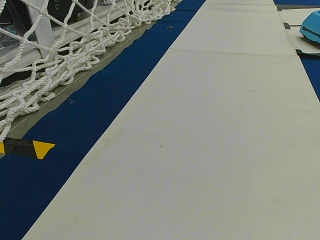car: (299, 8, 319, 44)
